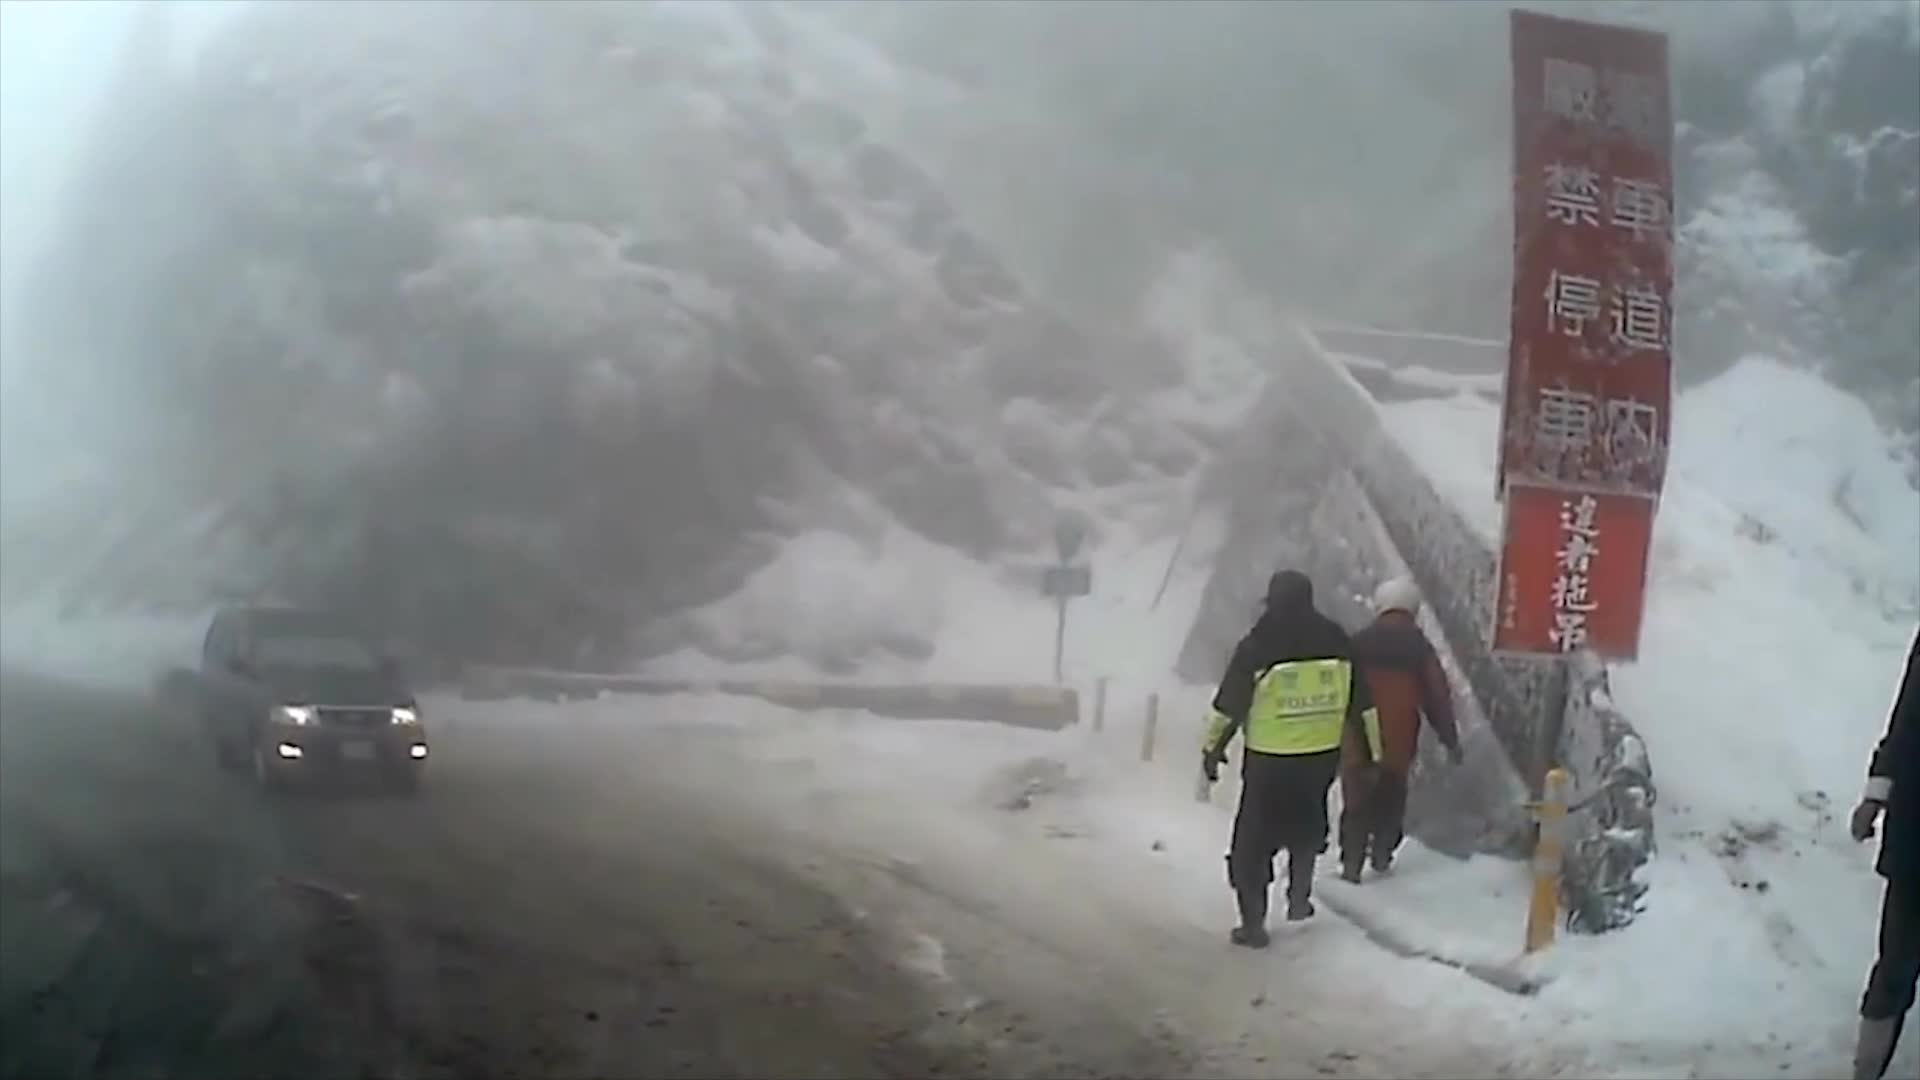pedestrian: (1197, 571, 1388, 952), (1330, 572, 1463, 883)
vehicle: (193, 600, 427, 797)
